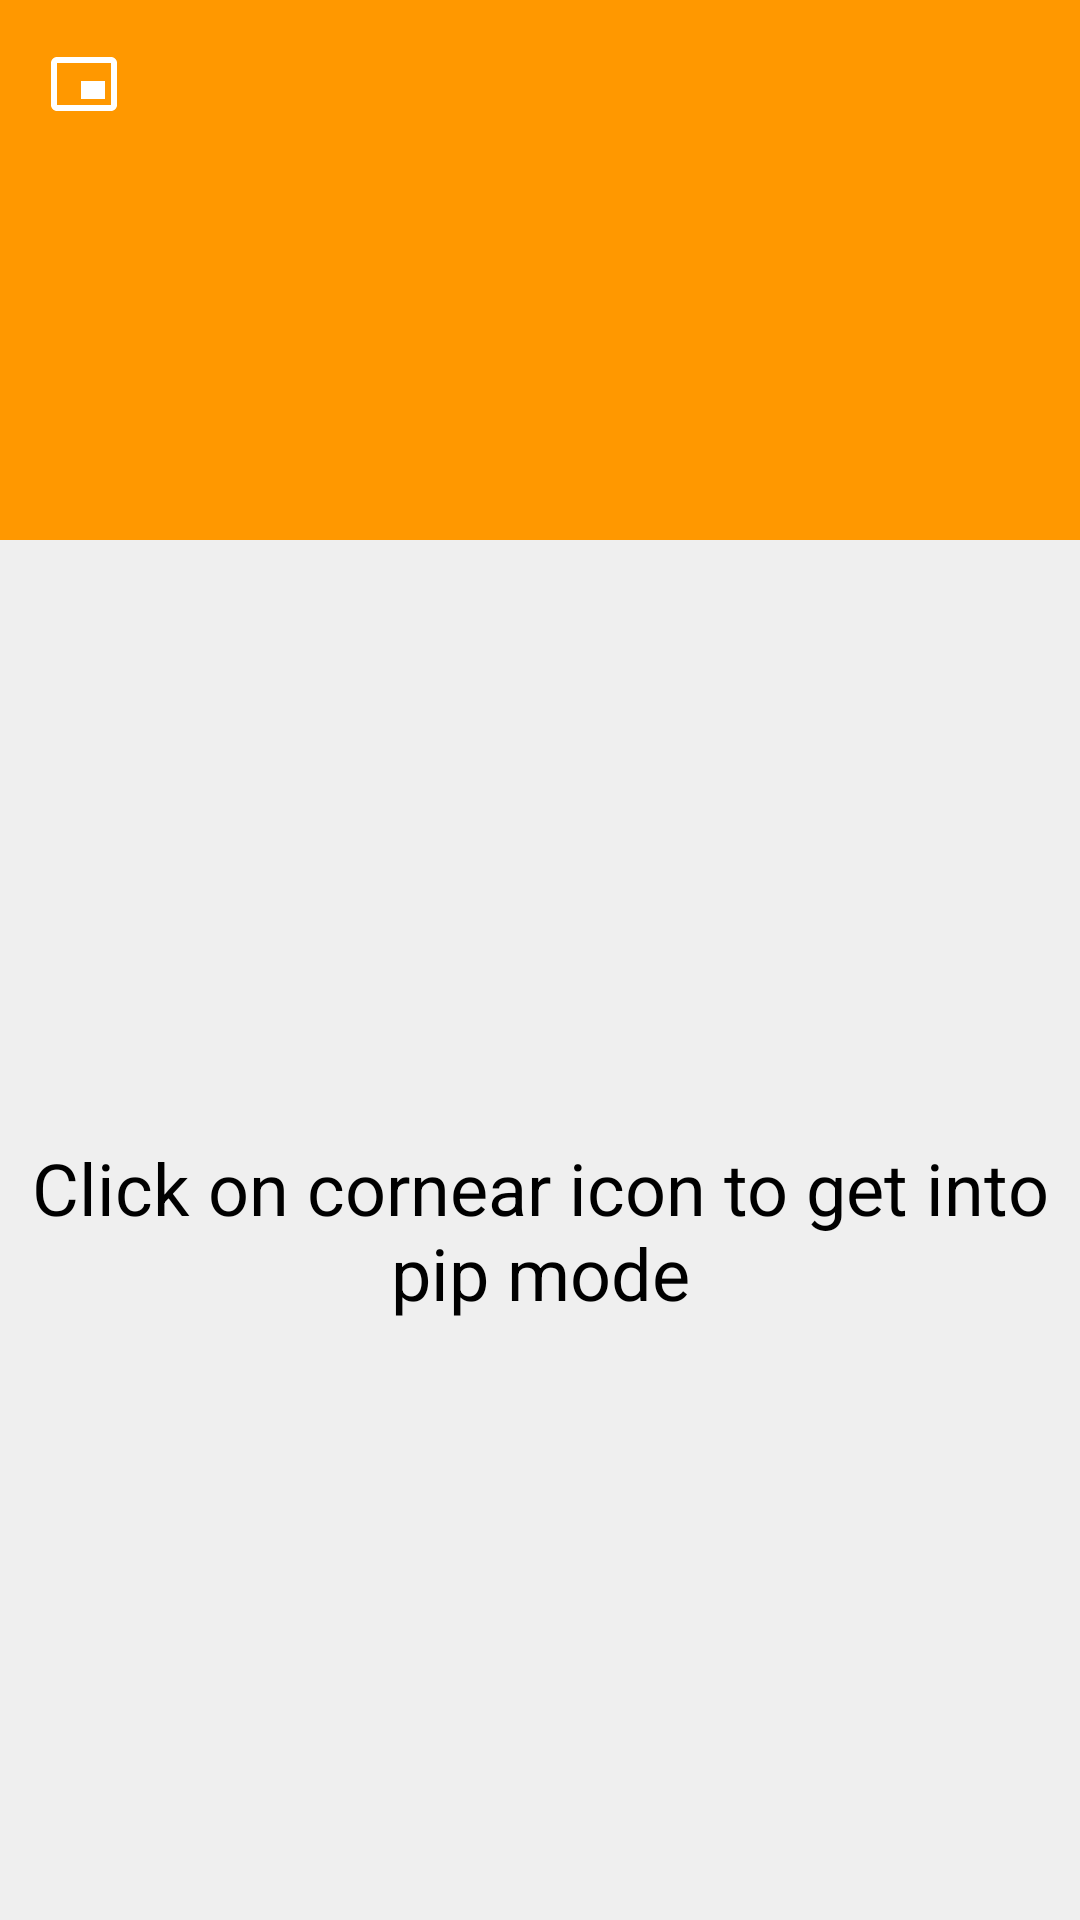

Icon click points for this 1080 x 1920 phone screenshot, format (x=x, y=y):
picture in: (x=84, y=84)
